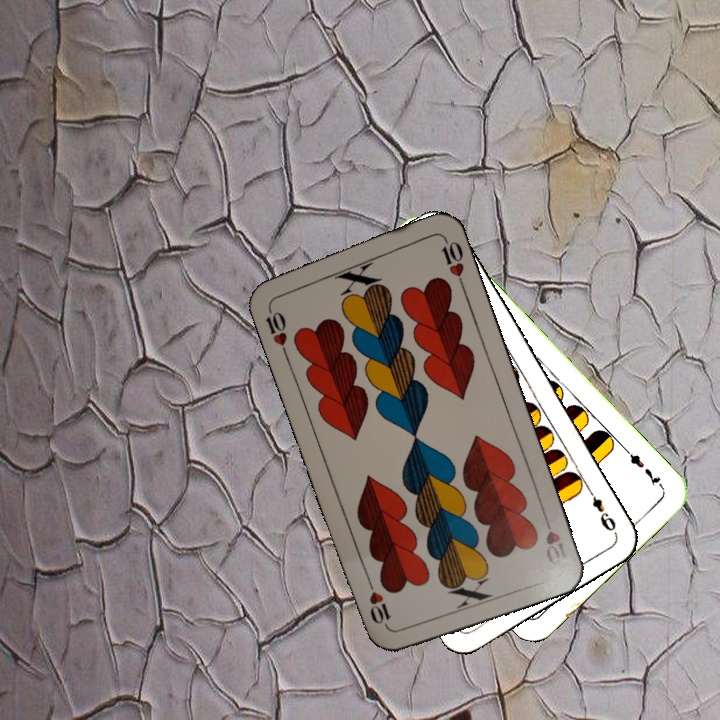E7: (620, 444, 666, 491)
E9: (583, 483, 619, 536)
H10: (539, 510, 573, 568), (261, 299, 290, 357)
